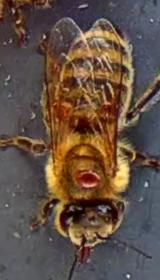varroa_mite: (66, 160, 108, 191), (96, 94, 125, 136), (46, 98, 81, 128)
